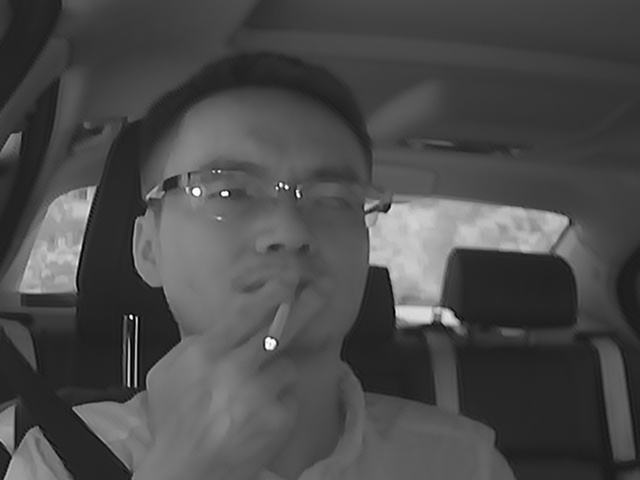hand: (197, 277, 333, 441)
